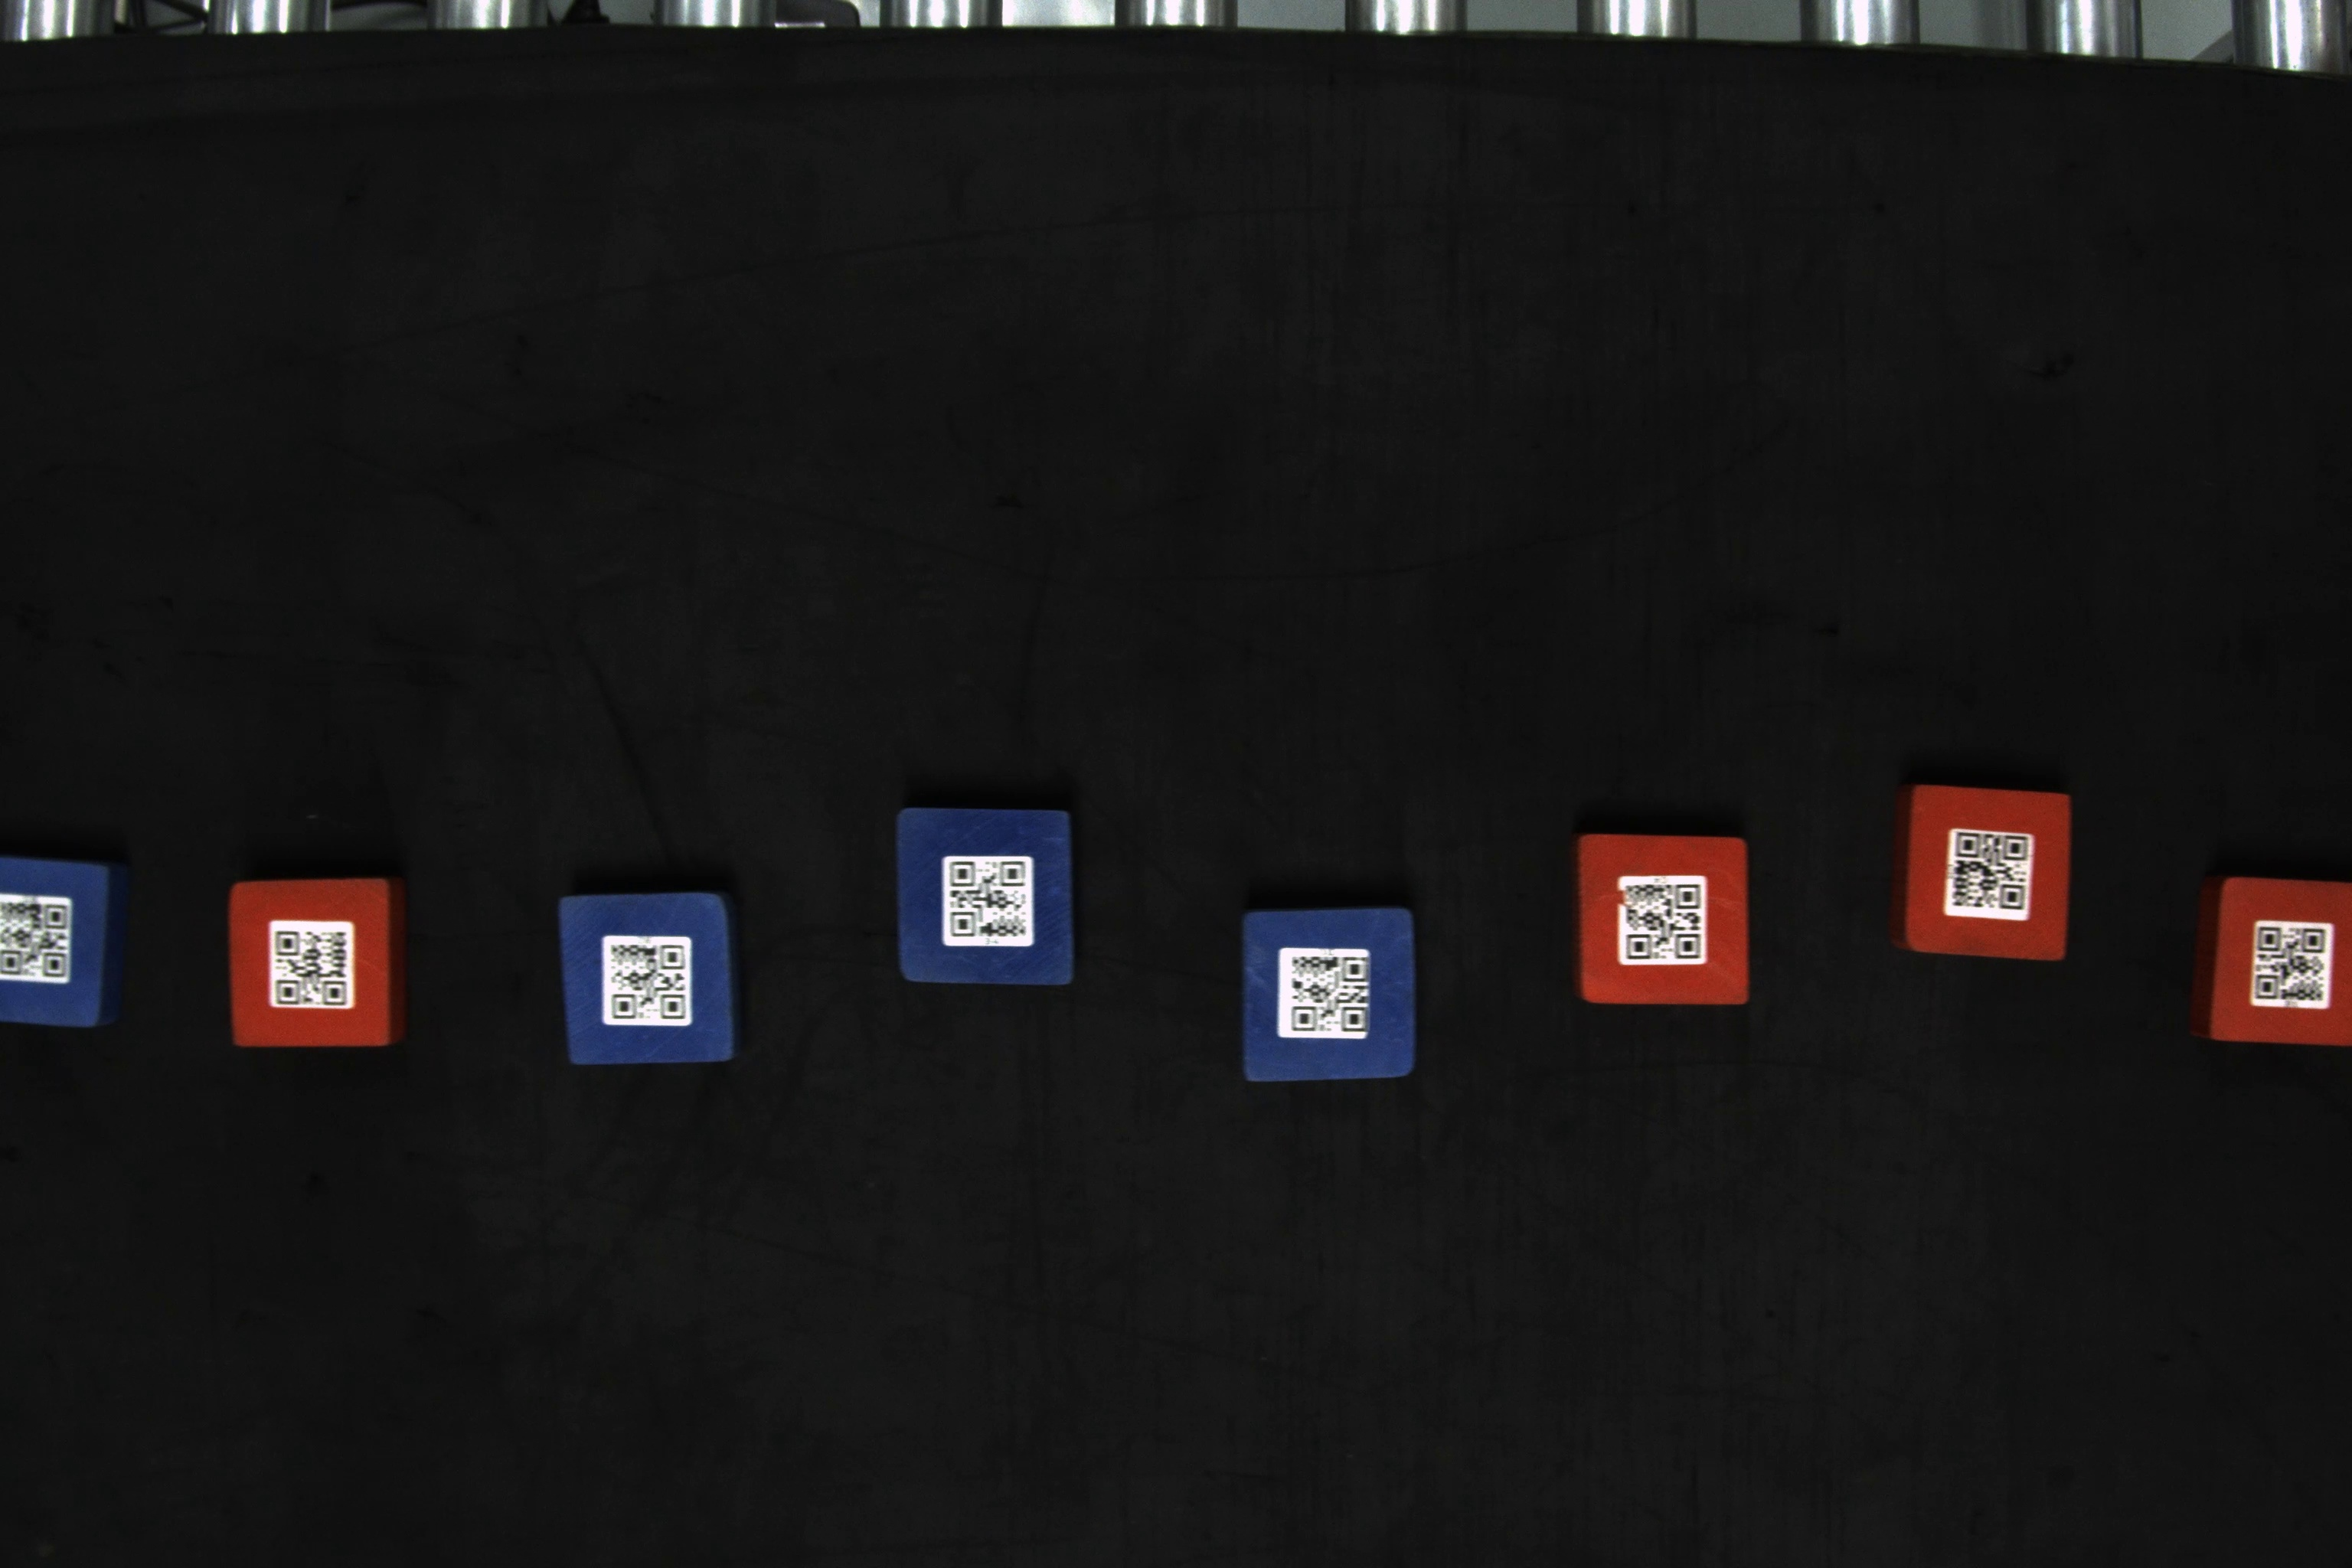wood: (551, 887, 754, 1074), (889, 803, 1081, 994), (1561, 826, 1757, 1004), (1235, 901, 1421, 1088), (1895, 780, 2079, 966), (224, 877, 413, 1053), (2200, 870, 2348, 1057), (3, 850, 133, 1034)
